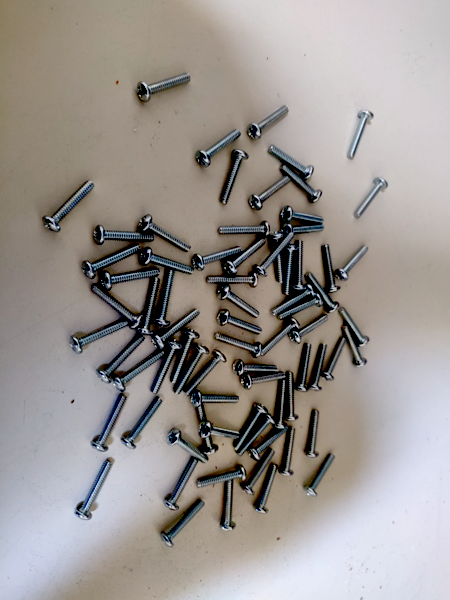longscrew: (45, 178, 90, 234), (121, 398, 166, 452), (99, 333, 143, 384), (77, 463, 115, 520), (91, 286, 144, 326), (163, 459, 205, 509), (93, 395, 130, 450), (115, 349, 163, 391), (153, 310, 202, 351), (82, 242, 139, 277), (71, 316, 128, 351), (160, 505, 210, 543), (141, 216, 192, 251), (185, 354, 225, 397), (235, 399, 268, 450), (104, 260, 160, 290), (257, 231, 295, 275), (152, 339, 181, 395), (168, 429, 210, 467), (175, 345, 206, 396), (260, 316, 298, 357), (142, 247, 192, 278), (154, 270, 181, 327), (138, 70, 189, 100), (269, 145, 314, 179), (283, 165, 323, 203), (305, 455, 339, 499), (197, 130, 239, 165), (221, 153, 249, 205), (239, 415, 273, 457), (226, 238, 265, 274), (244, 453, 278, 494), (251, 174, 289, 210), (218, 284, 259, 317), (195, 397, 217, 458), (220, 305, 260, 338), (252, 426, 292, 459), (274, 283, 315, 315), (172, 328, 195, 385), (139, 280, 163, 334), (306, 272, 338, 312), (250, 104, 287, 138), (198, 465, 246, 491), (350, 110, 375, 157), (357, 179, 387, 218), (196, 244, 239, 271), (280, 292, 321, 320), (337, 245, 368, 281), (215, 334, 261, 357), (95, 227, 157, 244), (293, 314, 330, 342), (258, 468, 280, 515), (343, 307, 369, 346), (325, 337, 348, 381), (295, 343, 314, 393), (311, 346, 330, 394), (240, 371, 288, 389), (283, 245, 299, 298), (305, 411, 323, 458), (282, 427, 298, 478), (344, 329, 366, 365), (323, 245, 339, 294), (219, 223, 270, 238), (193, 423, 243, 438), (275, 380, 289, 431), (207, 271, 259, 284), (295, 242, 307, 293), (284, 223, 324, 238), (230, 362, 279, 374), (188, 394, 239, 405), (283, 209, 323, 223), (277, 232, 286, 285), (287, 372, 296, 423)
